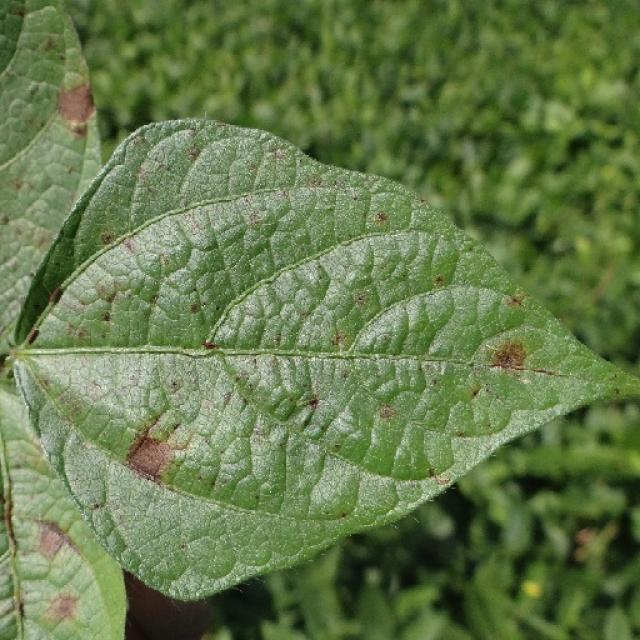Anthracnose: (129, 415, 191, 480), (56, 78, 97, 130), (32, 517, 77, 561), (43, 591, 81, 625), (489, 339, 527, 370), (307, 397, 320, 410)
Blackgram: (0, 120, 639, 639)
